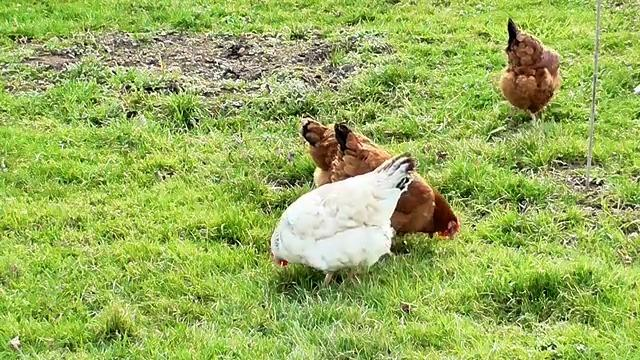Normal: (263, 150, 415, 293)
